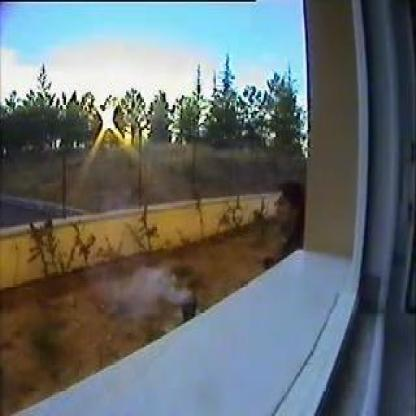-: (128, 264, 194, 306)
